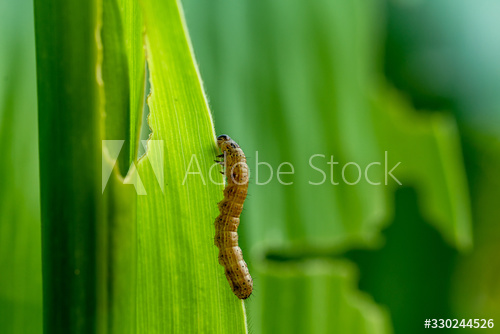Armyworm: (214, 128, 256, 310)
